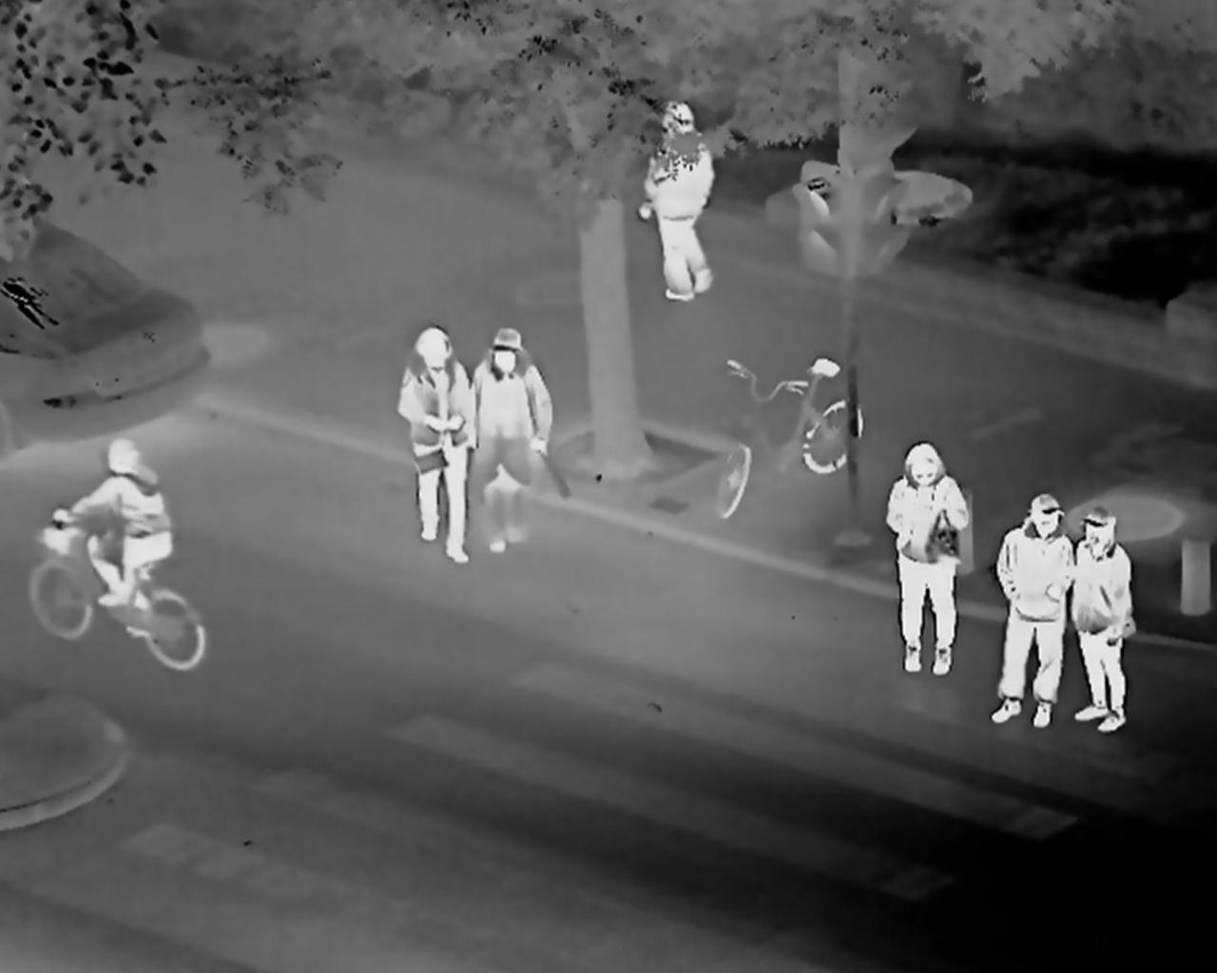person: (52, 439, 175, 637), (882, 441, 967, 680), (466, 327, 551, 558), (394, 328, 474, 566), (995, 495, 1072, 726), (635, 95, 712, 301), (1069, 505, 1134, 732)
